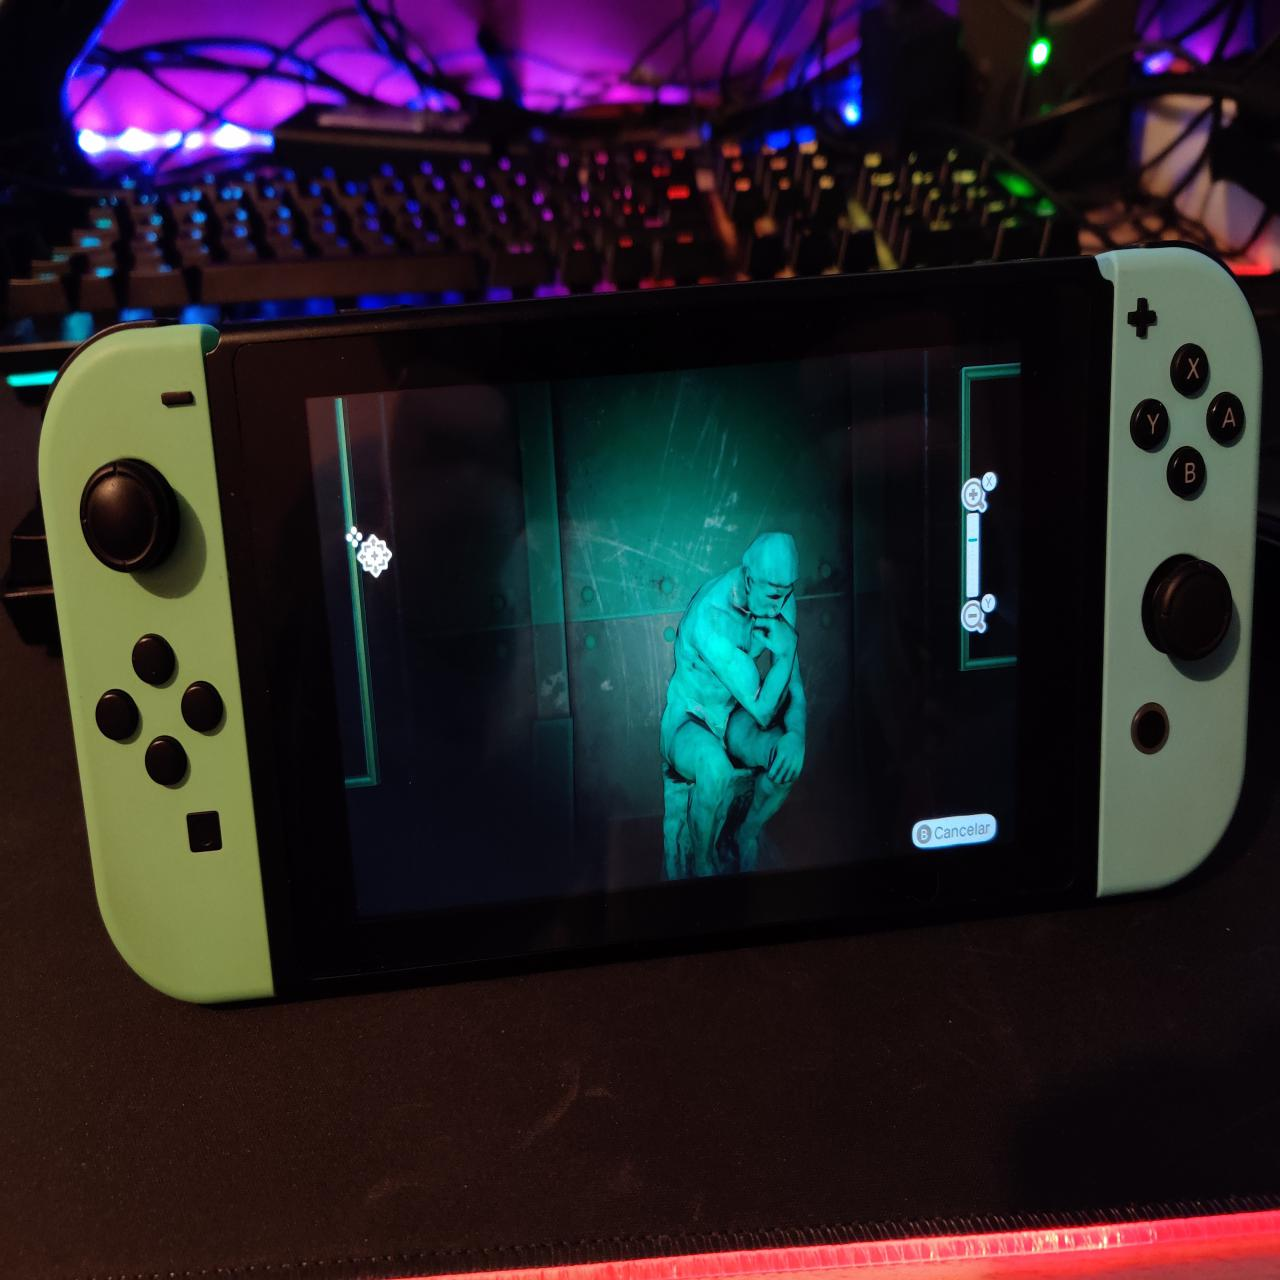Thinker: (659, 525, 813, 886)
